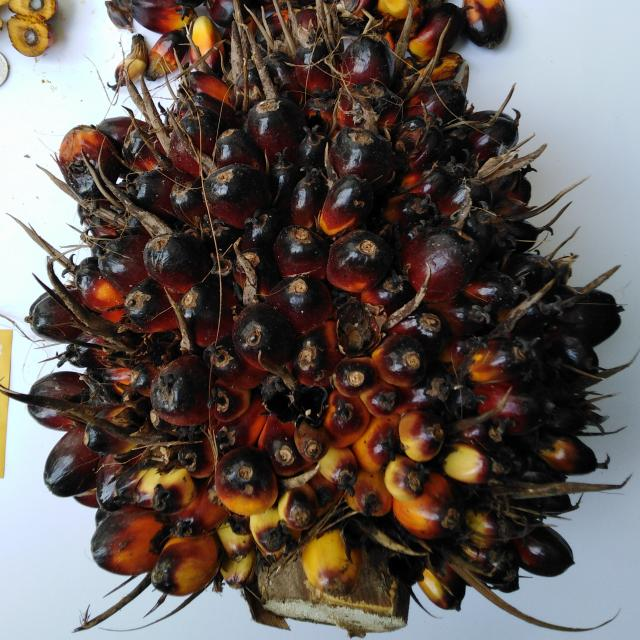FFB: (80, 67, 576, 598)
